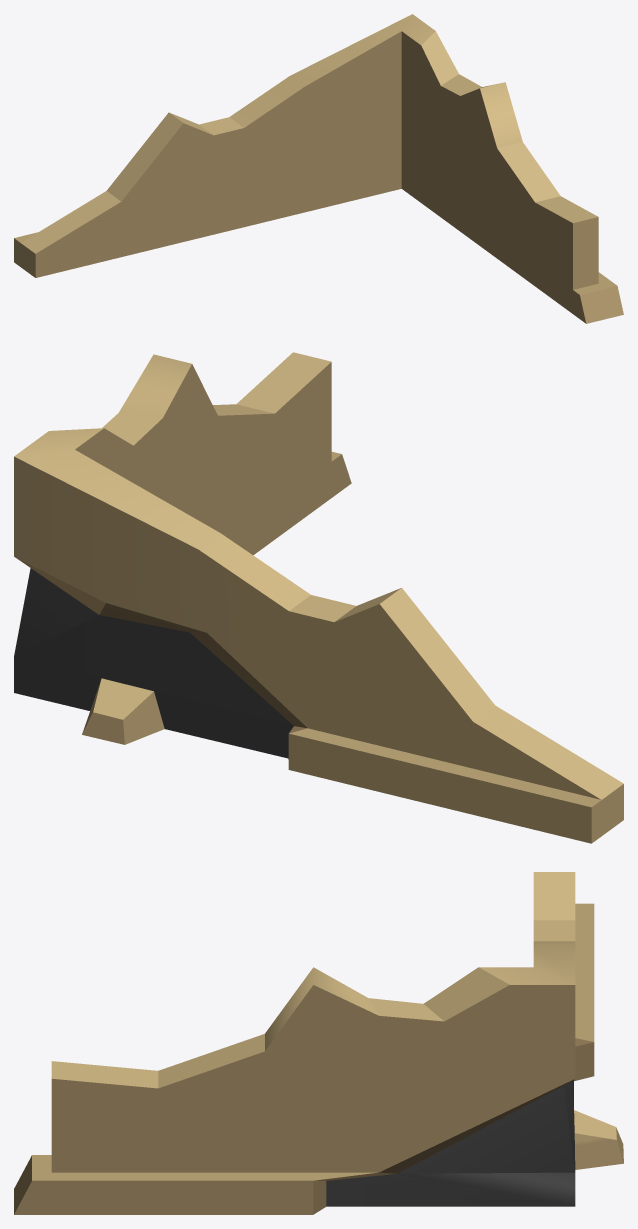
Rendered from SM_Env_Wall_Damaged_01.fbx.
The picture shows the model from 3 angles, top to bottom: view 1: azimuth 30°, elevation 25°; view 2: azimuth 150°, elevation 25°; view 3: azimuth 270°, elevation 25°; orthographic projection. The views are drawn at different scales.
Visible parts, largest first — view 1: SM_Env_Wall_Damaged_01; view 2: SM_Env_Wall_Damaged_01; view 3: SM_Env_Wall_Damaged_01.
Part boxes in pixels (<box>): SM_Env_Wall_Damaged_01: <box>14,14,623,323</box>; SM_Env_Wall_Damaged_01: <box>14,352,623,843</box>; SM_Env_Wall_Damaged_01: <box>14,872,623,1214</box>.
Size of the model in its own units: 6.66 by 2.48 by 6.19.
